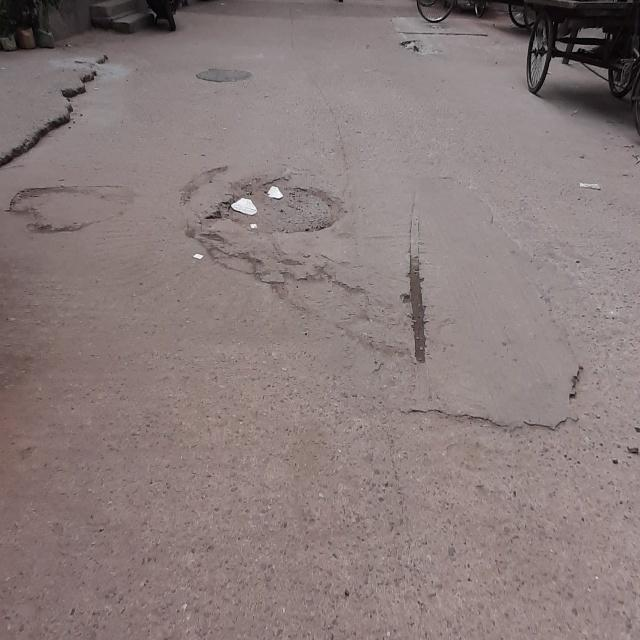Pothole: (199, 184, 340, 231)
Surface Erosion: (66, 103, 640, 542)
